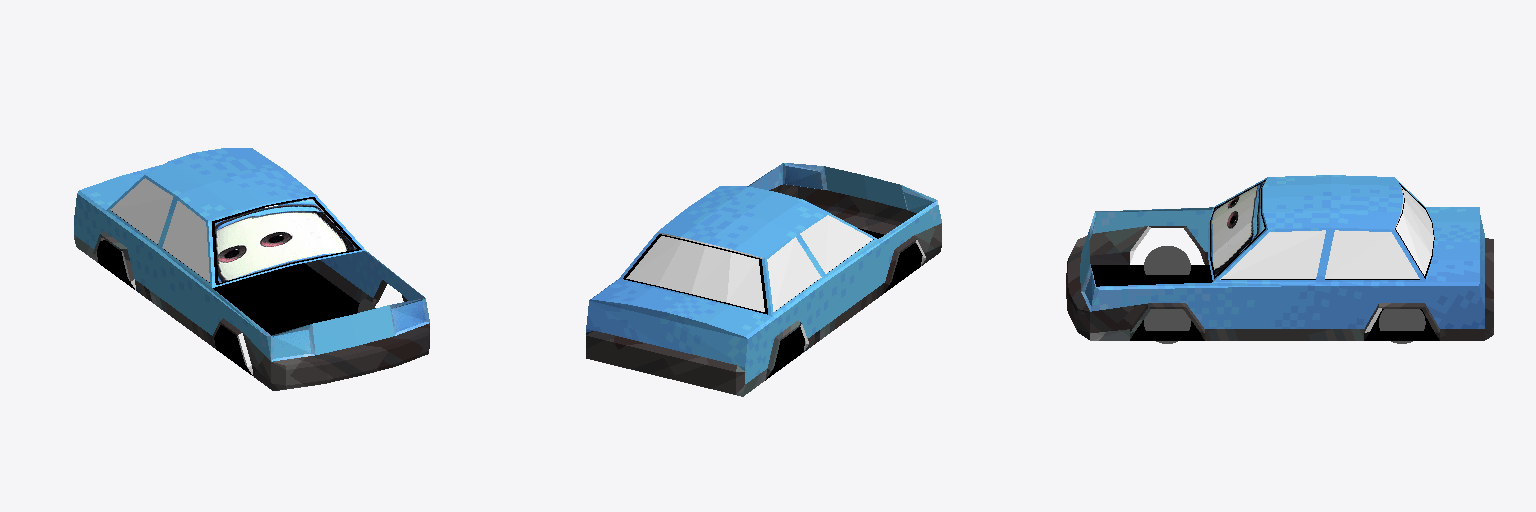
The picture shows the model from 3 angles: view 1: azimuth 30°, elevation 25°; view 2: azimuth 150°, elevation 25°; view 3: azimuth 270°, elevation 25°; orthographic projection.
Parts seen in each view (by area): view 1: Car_Cube.016; view 2: Car_Cube.016; view 3: Car_Cube.016.
Part boxes in pixels (bbox=[...]): Car_Cube.016: bbox=[74, 148, 429, 390]; Car_Cube.016: bbox=[586, 163, 941, 396]; Car_Cube.016: bbox=[1066, 175, 1493, 343].
Size of the model in its own units: 2.1 by 1.45 by 4.67.
Materials: 7 (1 with a texture image).